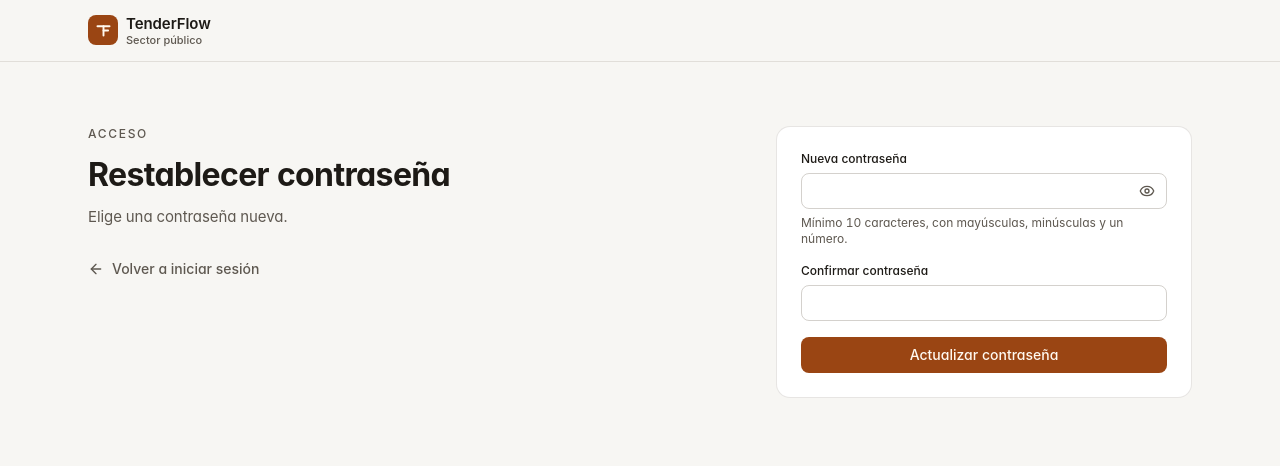
Test: PasswordResetPage › rechaza dos contraseñas distintas sin enviar el token
The image size is (1280, 466).
Type "NuevaClave-2026-Segura" into the password field labelled "Nueva contraseña" at (984, 191), box [801,173,1167,209]
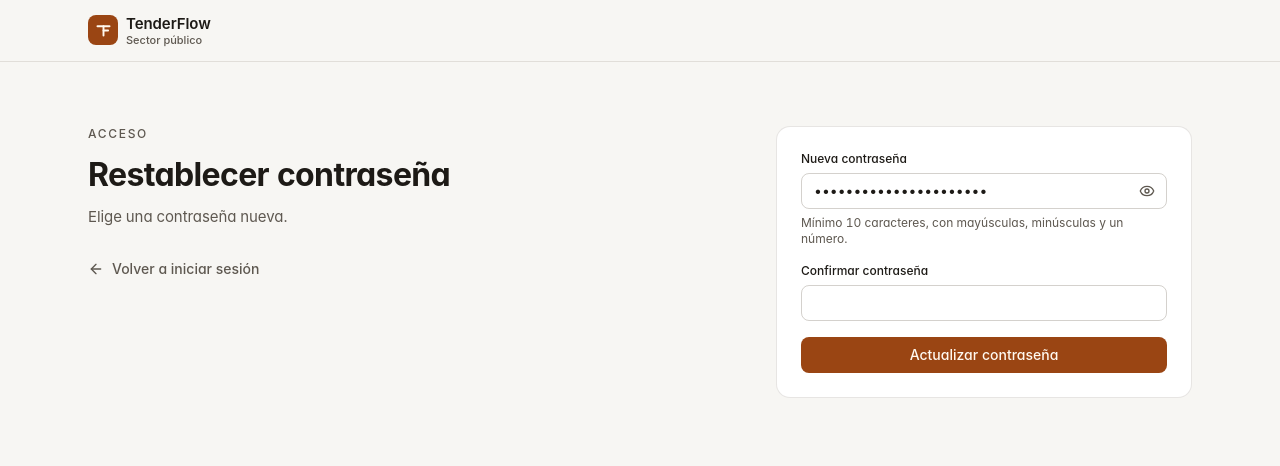
Type "Distinta-2026-Segura" into the password field labelled "Confirmar contraseña" at (984, 303), box [801,285,1167,321]
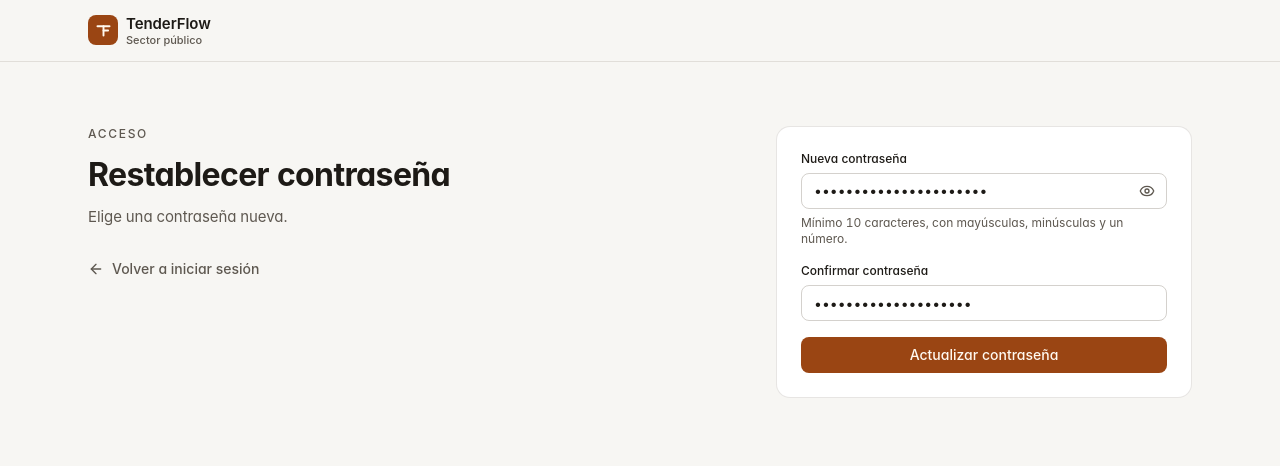
Click the button "Actualizar contraseña" at (984, 355), box [801,337,1167,373]
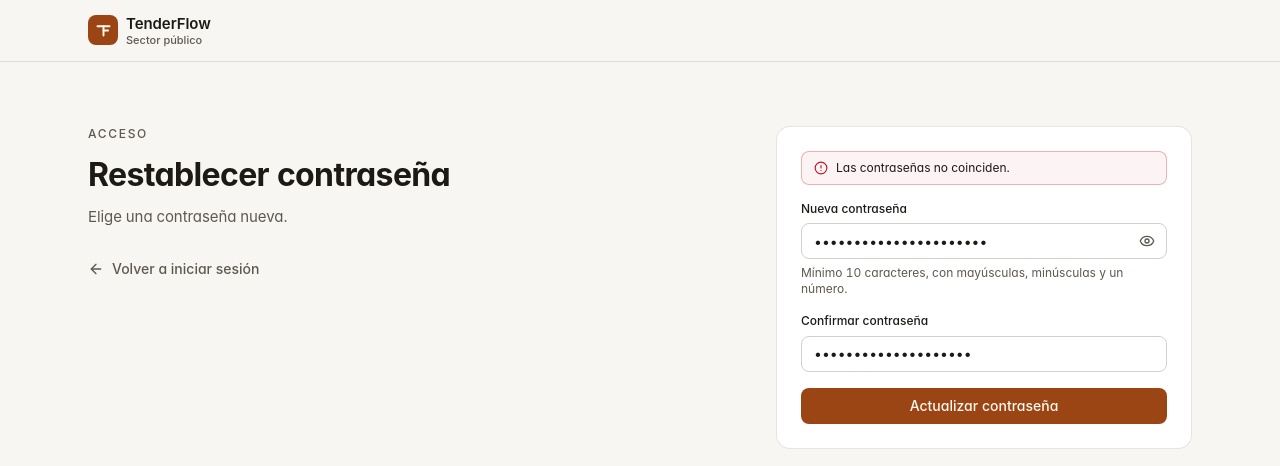
Expected: the message shows "no coinciden", [836,160,1010,175]
